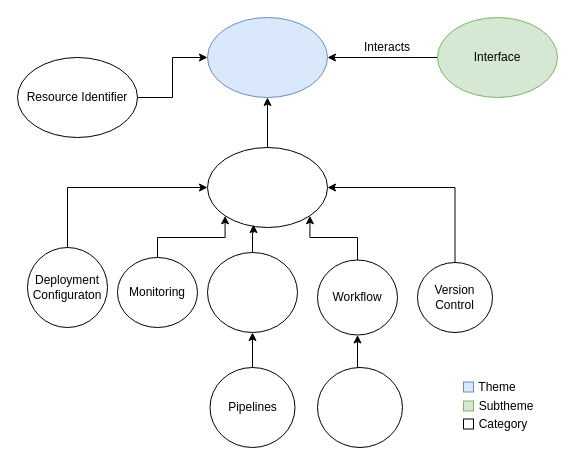
Image size: 575x465. Some labels were removed from this diagram. Here are the shapes that lost their labels. From the top down, the centre of each, then its label:
the point at 267,57: Resource Management
the point at 267,187: MLOps
the point at 252,292: Orchestration
the point at 359,407: Workflow Automation
